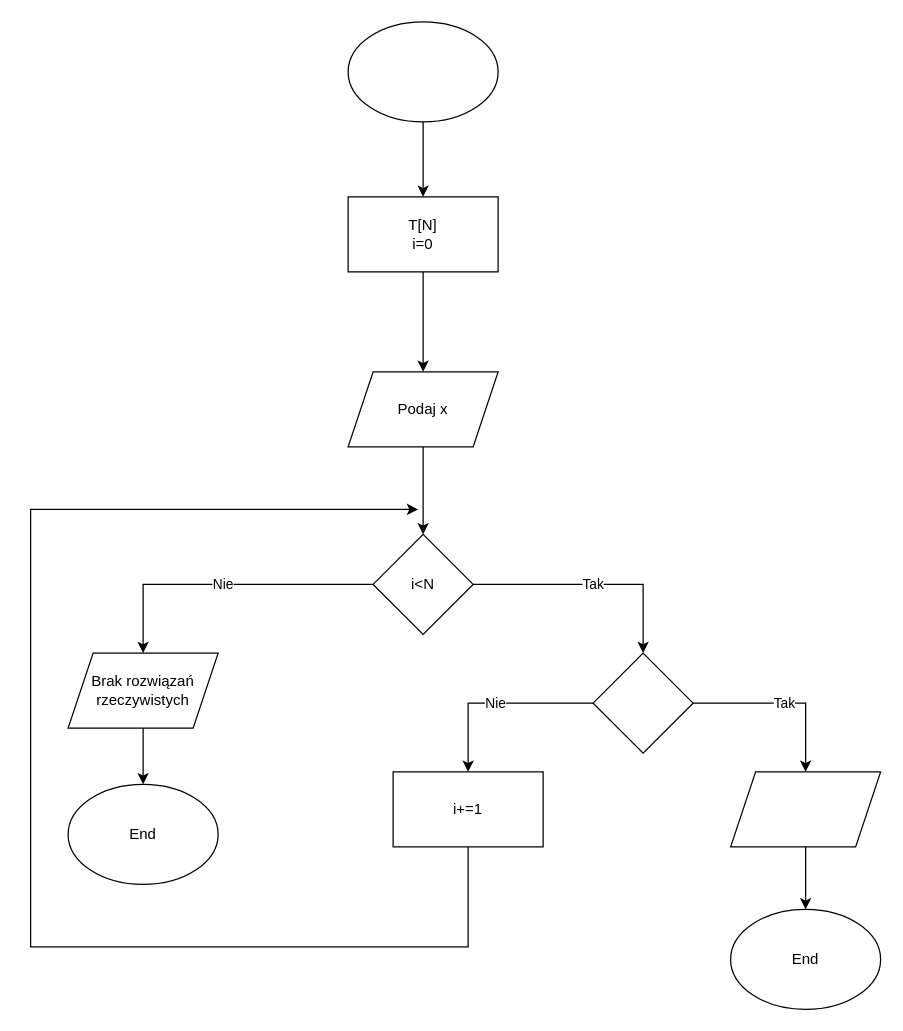
Image size: 903x1031. Some labels were removed from this diagram. The shapes that lost their labels are listed below. From the top down, each one's box as (x1, y1, x2, y2) in pixels, then its label:
(347, 21, 498, 122): Start
(592, 652, 693, 753): T(i)=x
(729, 771, 881, 847): Wypisz "Występuje"
